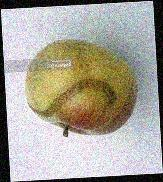rotten apple: (20, 37, 140, 141)
